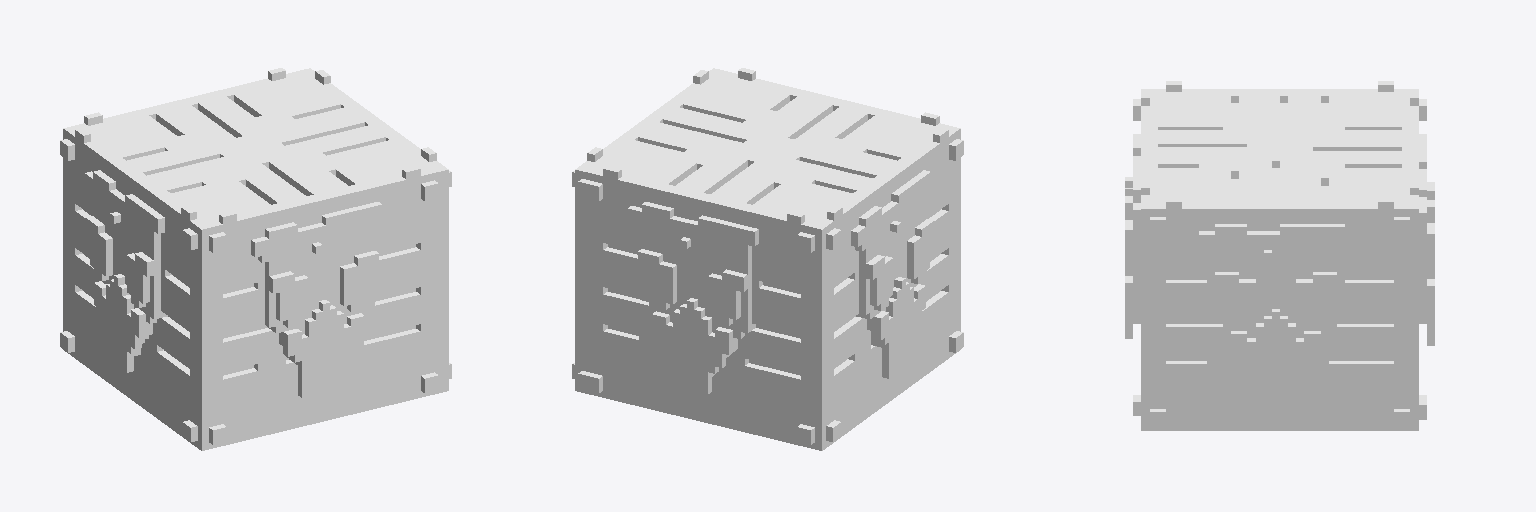
The model's file is aku_aku.obj.
3 views of the same model, side by side, from view 1: azimuth 30°, elevation 25°; view 2: azimuth 150°, elevation 25°; view 3: azimuth 270°, elevation 25° (orthographic).
Parts seen in each view (by area): view 1: object 1; view 2: object 1; view 3: object 1.
Part boxes in pixels (x1,y1,x2,y2): object 1: (60,68,451,450); object 1: (572,68,963,450); object 1: (1125,81,1434,430).
Bounding box in the file's own units: 3.9 × 3.1 × 3.8.